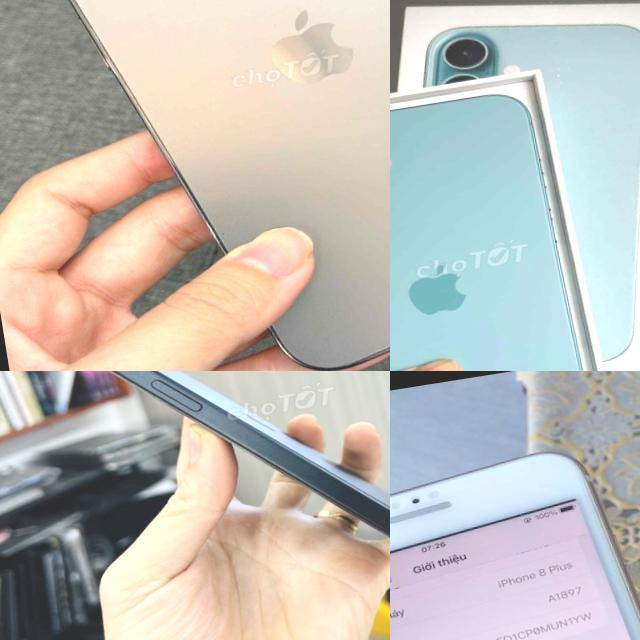gen_12_13: (0, 0, 390, 371)
gen_15: (36, 371, 390, 636)
gen_16: (390, 73, 615, 371)
gen_7_8: (390, 426, 640, 640)
